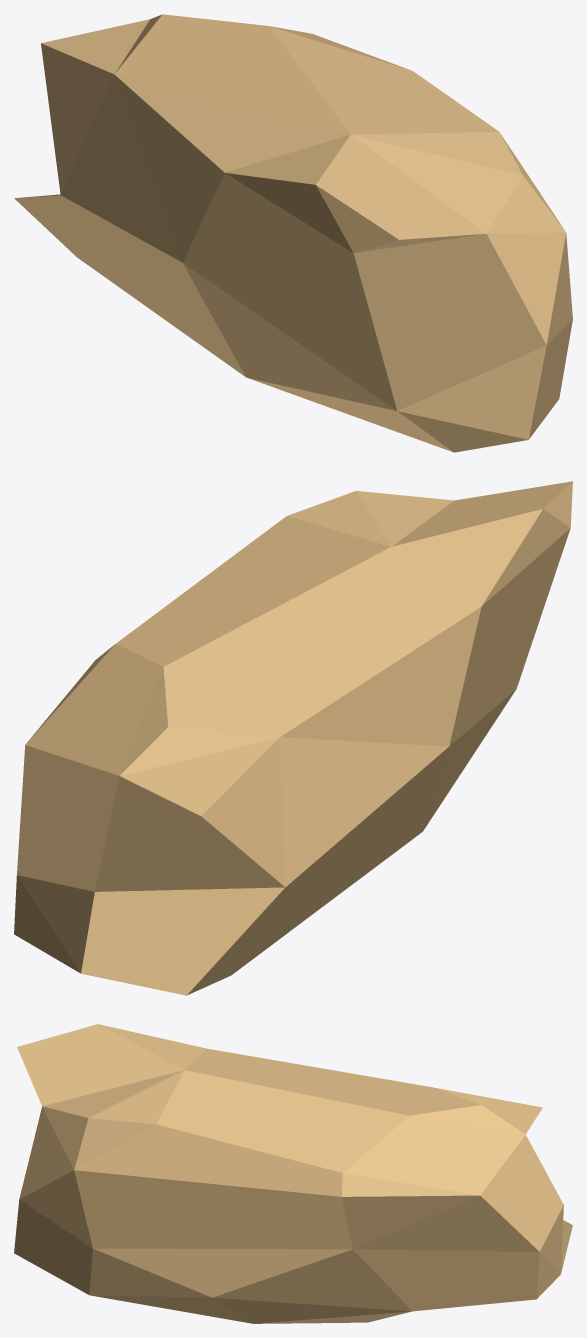
Rendered from Rock2.fbx.
The picture shows the model from 3 angles, top to bottom: view 1: azimuth 30°, elevation 25°; view 2: azimuth 150°, elevation 25°; view 3: azimuth 270°, elevation 25°; orthographic projection. The views are drawn at different scales.
Visible parts, largest first — view 1: Cube; view 2: Cube; view 3: Cube.
Part boxes in pixels (x1,y1,x2,y2): Cube: (14,14,572,452); Cube: (14,481,572,995); Cube: (14,1024,572,1323).
Size of the model in its own units: 2118 by 2077 by 4678.
